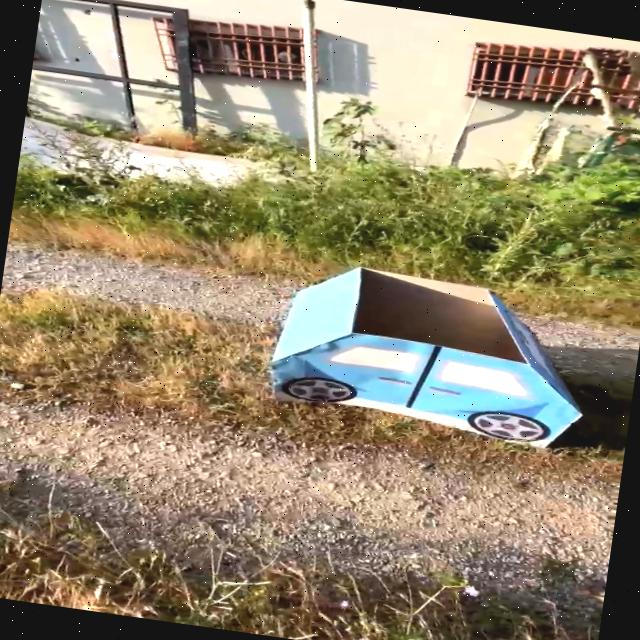blue_car: (198, 208, 640, 505)
